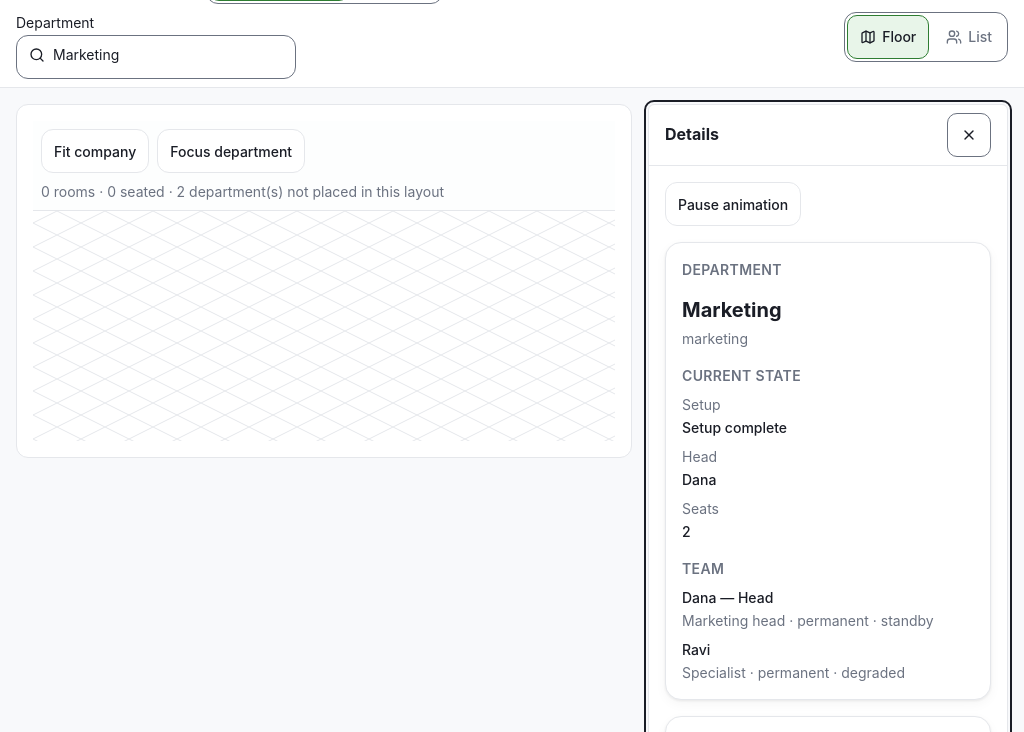
A02 assembly — real components composed from one authorized snapshot › wires validated scope and carries an unrelated board filter to the Board link (S4)
(page scrolled)
Expected: the button with test id "hq-picker-trigger" is shown, [16,35,296,79]
Step 1. Click the tab with test id "hq-view-tab-list" → (969, 37), box [933,15,1005,59]
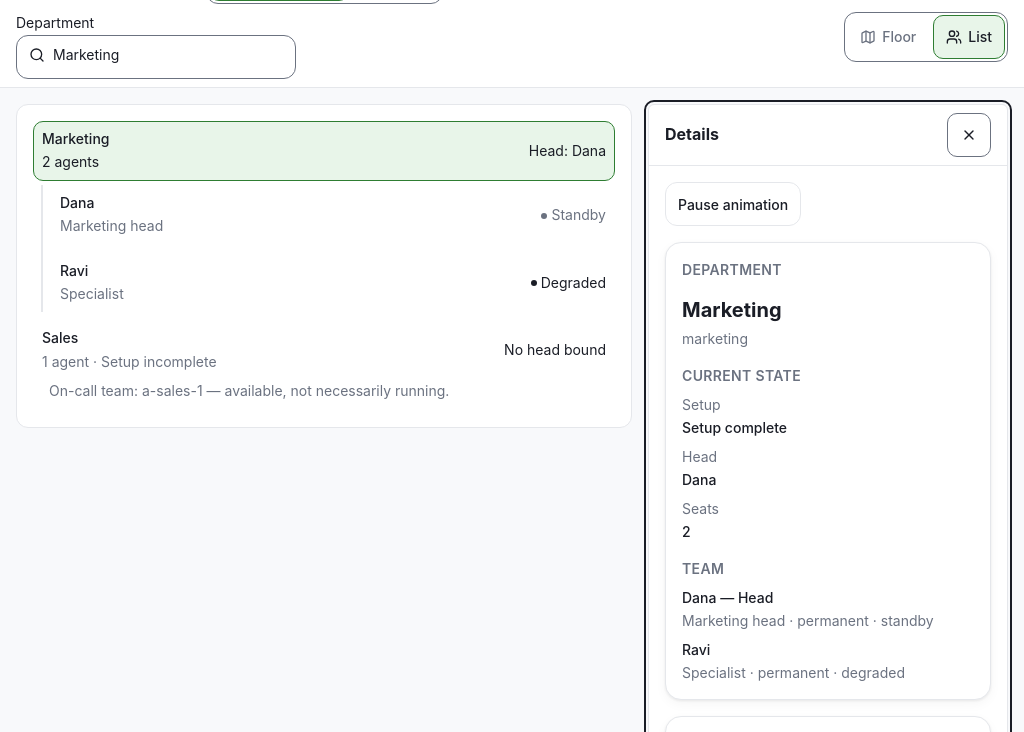
Expected: the button with test id "hq-list-department-dept-marketing" is shown, [33,121,615,181]
